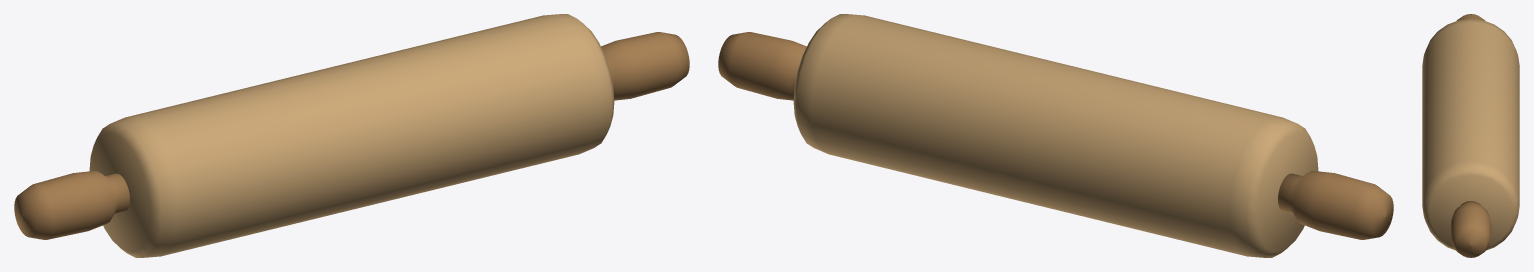
File: P037_rolling_pin_rebuilt.glb
3 renders of one model, left to right at view 1: azimuth 30°, elevation 25°; view 2: azimuth 150°, elevation 25°; view 3: azimuth 270°, elevation 25°, orthographic. The views are drawn at different scales.
Parts seen in each view (by area): view 1: Rolling_pin_pale_beech, Rolling_pin_turned_handles; view 2: Rolling_pin_pale_beech, Rolling_pin_turned_handles; view 3: Rolling_pin_pale_beech, Rolling_pin_turned_handles.
Boxes of the visible parts, bbox=[...] form: Rolling_pin_pale_beech: bbox=[89, 14, 614, 257]; Rolling_pin_turned_handles: bbox=[14, 32, 689, 239]; Rolling_pin_pale_beech: bbox=[793, 14, 1318, 257]; Rolling_pin_turned_handles: bbox=[718, 32, 1393, 239]; Rolling_pin_pale_beech: bbox=[1422, 19, 1519, 250]; Rolling_pin_turned_handles: bbox=[1450, 14, 1491, 257].
Size of the model in its own units: 0.584 by 0.11 by 0.11.
